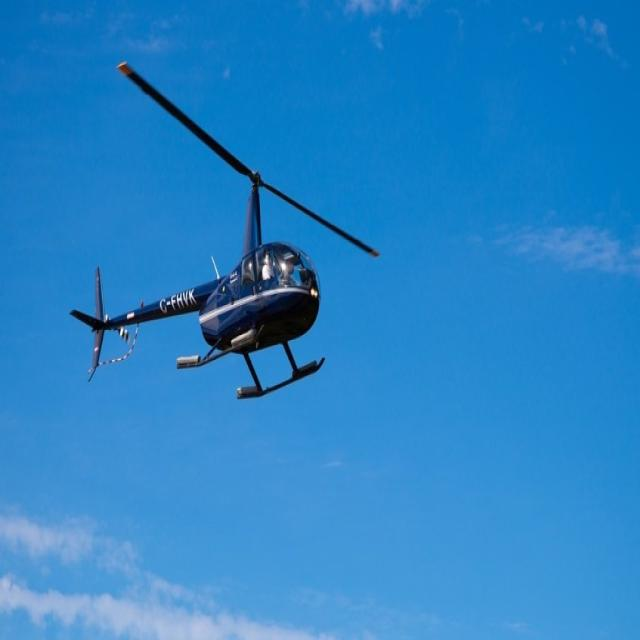CIV_HELO: (69, 168, 326, 400)
